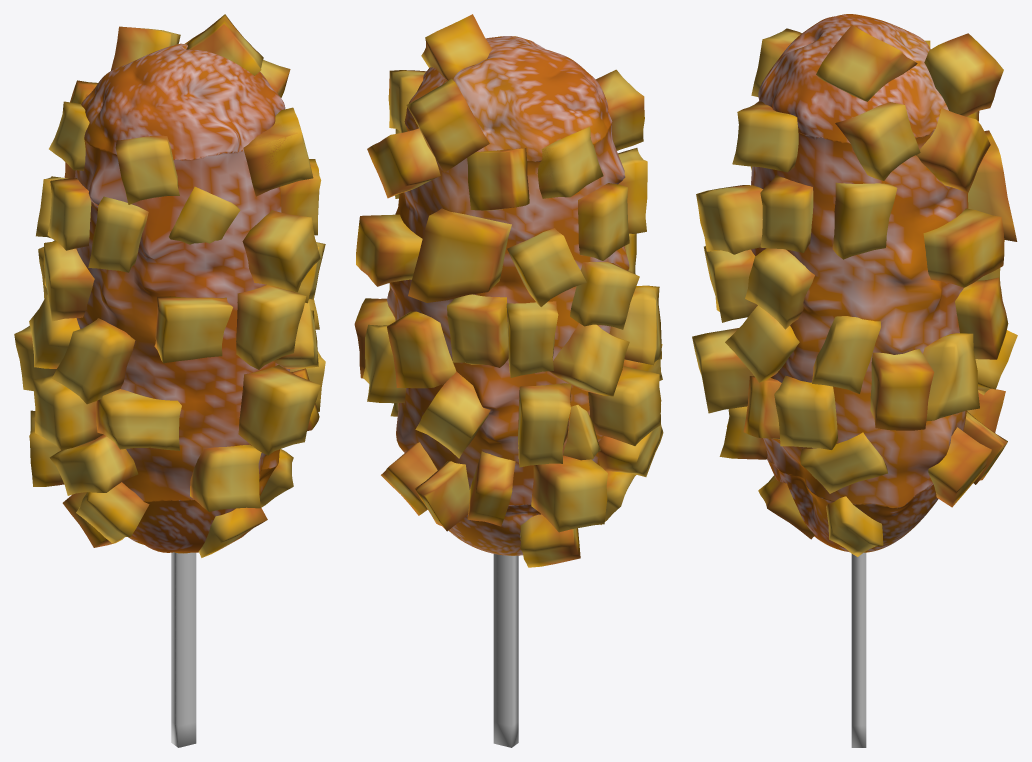
Rendered from PotatoHotdog.fbx.
3 renders of one model, left to right at view 1: azimuth 30°, elevation 25°; view 2: azimuth 150°, elevation 25°; view 3: azimuth 270°, elevation 25°, orthographic. The views are drawn at different scales.
Visible parts, largest first — view 1: 원통 5, 상자 (×4), 상자 1 (×2), 상자 2 (×4), 상자 8 (×2), 상자 6 (×2), 상자 11 (×2), 상자 16, 상자 15, 상자 13 (×2), 상자 3 (×2), 상자 9 (×2) (+7 smaller); view 2: 원통 5, 상자 (×3), 상자 2 (×2), 상자 25, 상자 1 (×2), 상자 6, 상자 19, 상자 23, 상자 8, 상자 27, 상자 3 (×2), 상자 26 (+17 smaller); view 3: 원통 5, 상자 (×3), 상자 2 (×2), 상자 1 (×2), 상자 3 (×2), 상자 26, 상자 24, 상자 19, 상자 28, 상자 5, 상자 22, 상자 21 (+14 smaller).
Boxes of the visible parts, <box> form: 원통 5: <box>74,43,289,553</box>; 상자 (×4): <box>33,176,320,747</box>; 상자 1 (×2): <box>52,285,306,404</box>; 상자 2 (×4): <box>29,241,325,368</box>; 상자 8 (×2): <box>14,325,320,455</box>; 상자 6 (×2): <box>29,410,261,511</box>; 상자 11 (×2): <box>49,101,313,196</box>; 상자 16: <box>154,296,232,363</box>; 상자 15: <box>96,389,181,450</box>; 상자 13 (×2): <box>47,159,321,250</box>; 상자 3 (×2): <box>115,60,290,204</box>; 상자 9 (×2): <box>76,449,293,543</box>; 원통 5: <box>387,36,629,555</box>; 상자 (×3): <box>493,228,661,747</box>; 상자 2 (×2): <box>549,262,639,396</box>; 상자 25: <box>408,208,511,302</box>; 상자 1 (×2): <box>506,285,661,377</box>; 상자 6: <box>531,455,607,532</box>; 상자 19: <box>406,78,489,172</box>; 상자 23: <box>387,311,456,388</box>; 상자 8: <box>518,383,571,467</box>; 상자 27: <box>447,294,508,367</box>; 상자 3 (×2): <box>388,69,644,150</box>; 상자 26: <box>356,214,422,286</box>; 원통 5: <box>751,14,968,552</box>; 상자 (×3): <box>696,185,866,747</box>; 상자 2 (×2): <box>725,248,814,382</box>; 상자 1 (×2): <box>704,246,880,393</box>; 상자 3 (×2): <box>751,28,920,180</box>; 상자 26: <box>923,208,1004,287</box>; 상자 24: <box>870,349,934,430</box>; 상자 19: <box>924,33,1003,116</box>; 상자 28: <box>816,25,917,101</box>; 상자 5: <box>832,182,897,259</box>; 상자 22: <box>923,333,979,421</box>; 상자 21: <box>915,108,990,192</box>.
Bounding box in the file's own units: 0.5619 × 1.43 × 0.5739.
